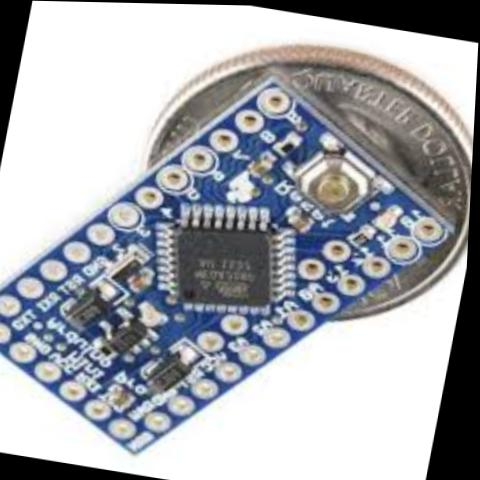Arduino-Pro-Mini: (0, 25, 479, 480)
